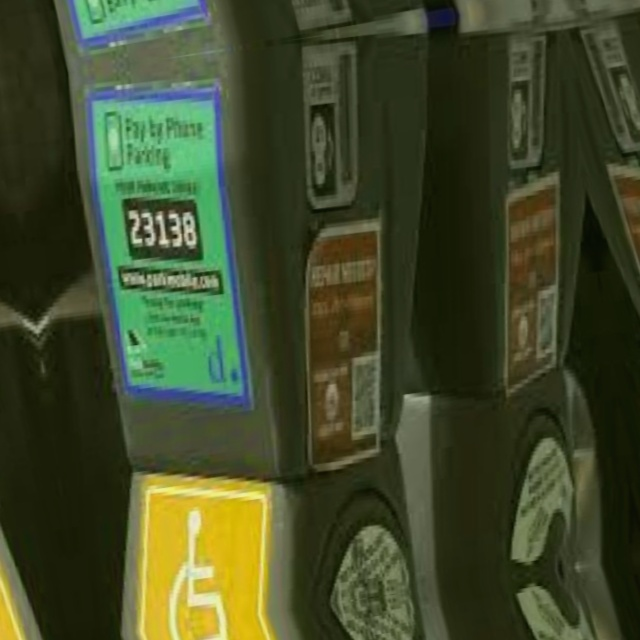ISA: (147, 503, 249, 628), (164, 616, 265, 640), (0, 539, 0, 640)
